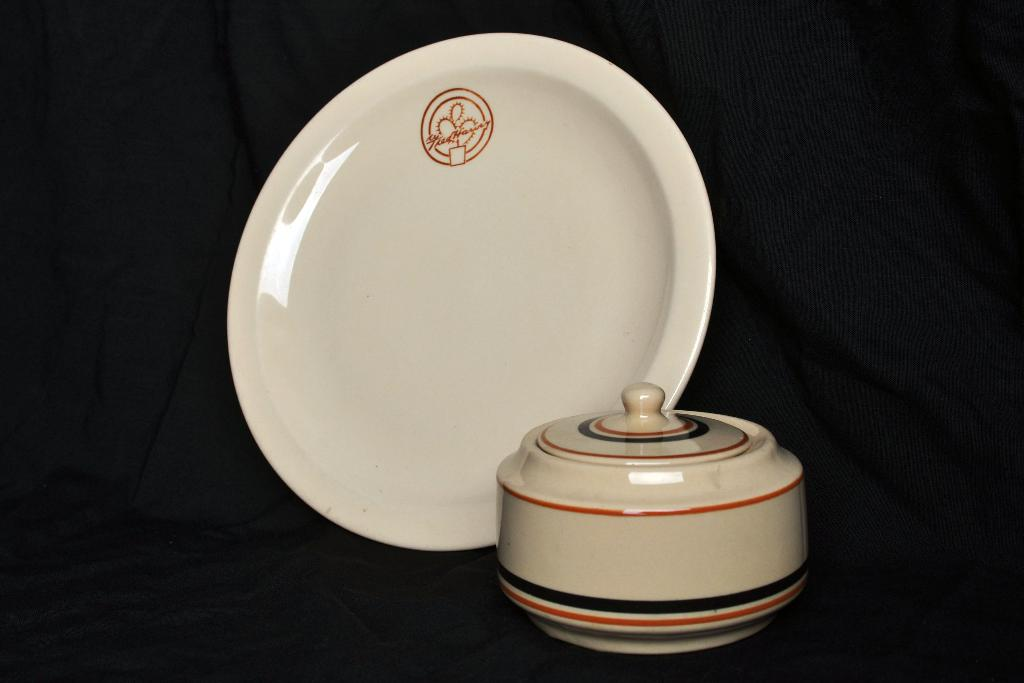plate: (227, 32, 716, 551)
